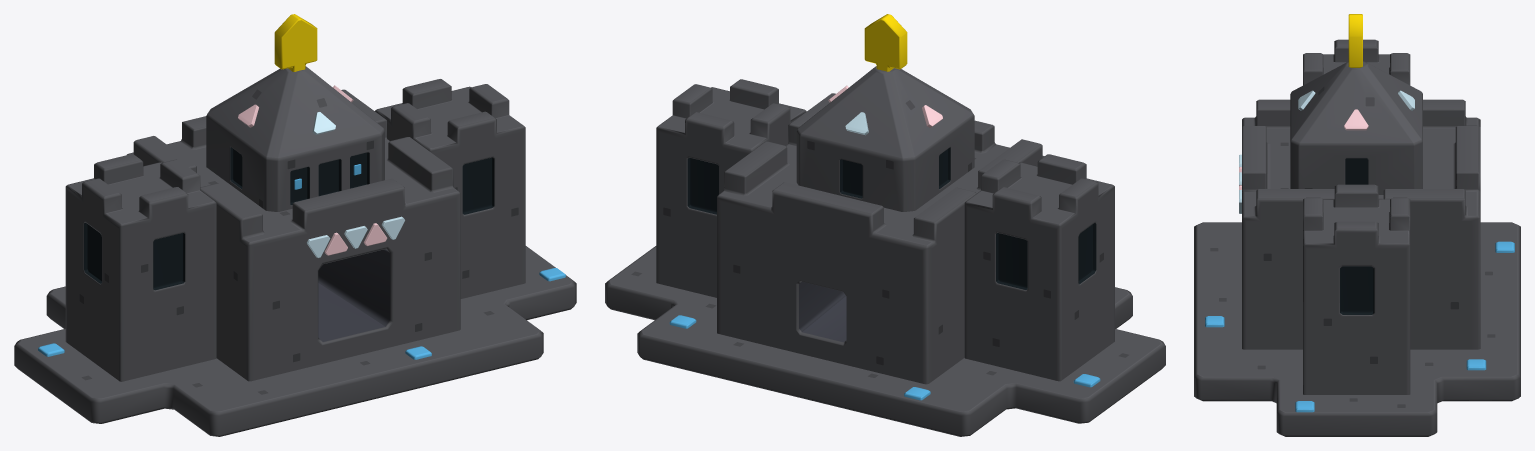
File: model_shiny.obj
3 renders of one model, left to right at view 1: azimuth 30°, elevation 25°; view 2: azimuth 150°, elevation 25°; view 3: azimuth 270°, elevation 25°, orthographic. The views are drawn at different scales.
Parts seen in each view (by area): view 1: 0770_palossand_shiny; view 2: 0770_palossand_shiny; view 3: 0770_palossand_shiny.
Boxes of the visible parts, <box> form: 0770_palossand_shiny: <box>14,14,576,436</box>; 0770_palossand_shiny: <box>605,14,1165,436</box>; 0770_palossand_shiny: <box>1194,14,1520,436</box>.
Bounding box in the file's own units: 4.07 × 2.57 × 2.46.
1 material, 1 textured.
